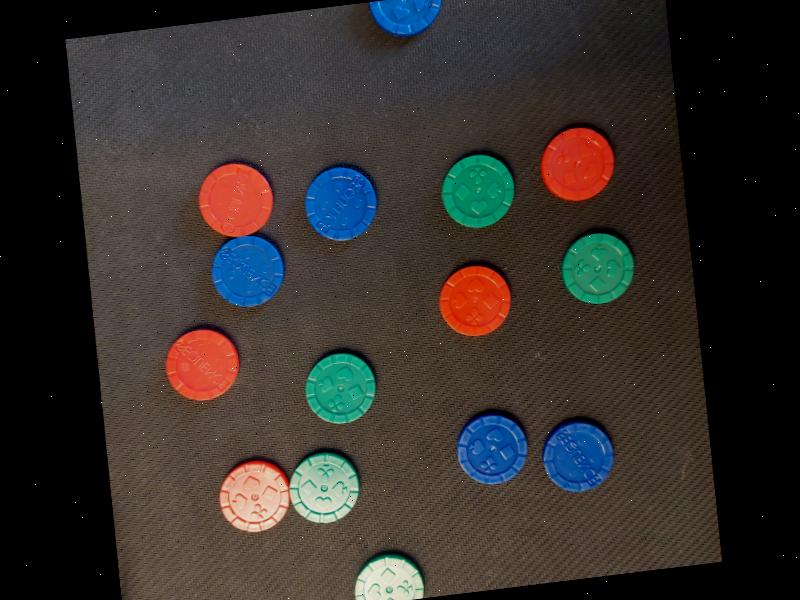Blue_Token: (275, 158, 397, 263), (529, 408, 631, 504), (450, 390, 533, 494), (194, 230, 298, 311), (351, 0, 462, 53)
Green_Token: (268, 427, 373, 544), (523, 222, 638, 318), (293, 336, 395, 444), (420, 140, 520, 240), (347, 538, 442, 600)
Red_Token: (513, 106, 627, 228), (425, 249, 533, 372), (152, 308, 271, 416), (171, 145, 287, 249), (201, 445, 309, 550)
